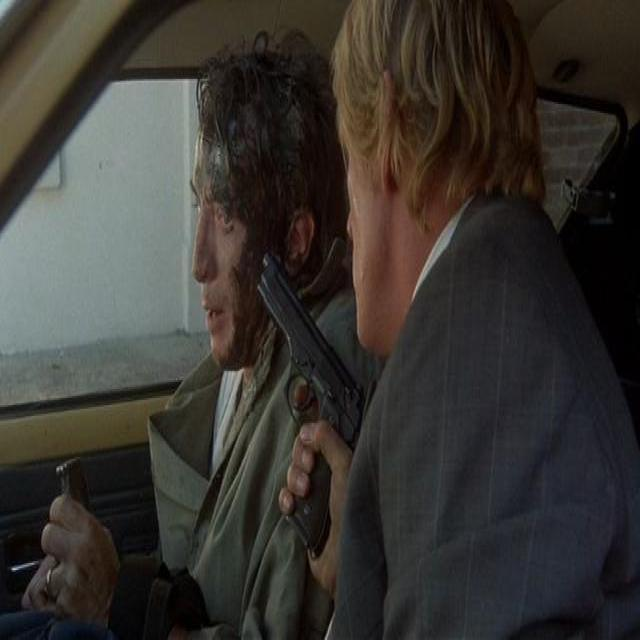pistol: (256, 248, 365, 555)
